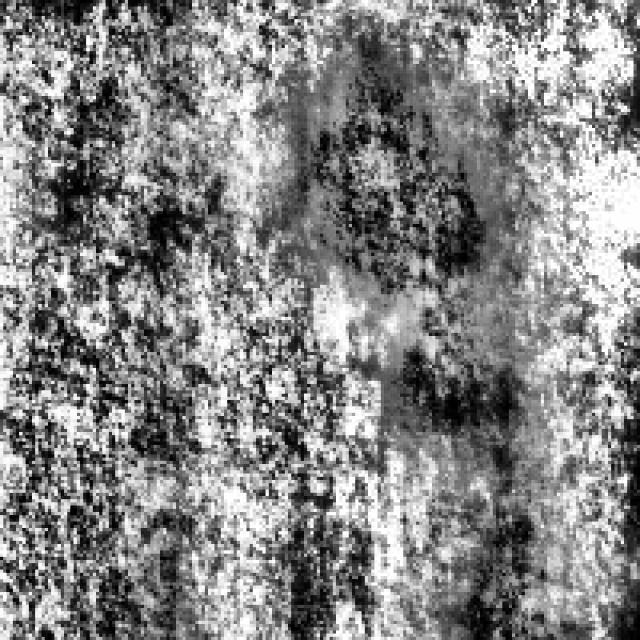Scratches: (304, 29, 506, 308), (384, 288, 541, 470), (444, 496, 570, 630)
